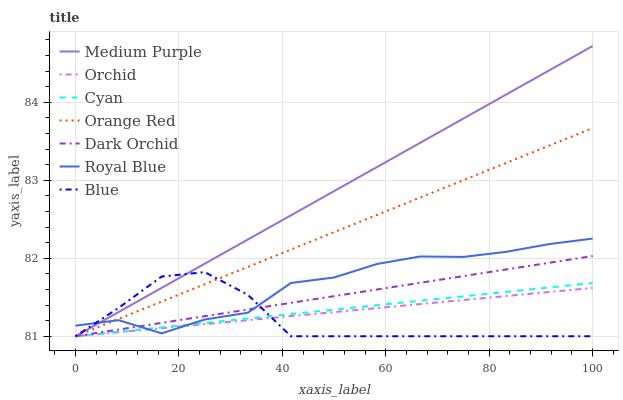axis: (63, 347, 623, 357), (43, 31, 58, 341)
legend: (51, 32, 207, 201)
line: (76, 42, 592, 338), (78, 127, 592, 336), (76, 236, 592, 335), (81, 253, 592, 337), (76, 271, 590, 338), (81, 281, 593, 338), (78, 285, 593, 337)
